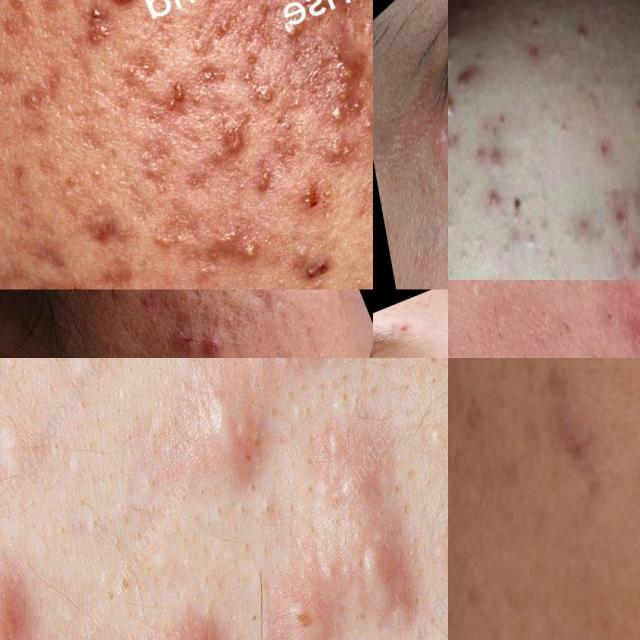acne_scars: (244, 289, 282, 324)
comedone: (547, 106, 582, 144), (452, 225, 478, 275), (568, 7, 595, 54), (522, 0, 551, 37), (561, 220, 583, 259), (519, 227, 541, 257), (454, 0, 473, 30), (448, 177, 456, 239), (448, 23, 463, 53), (416, 294, 436, 314), (448, 52, 462, 70), (547, 261, 560, 280)
cystic: (200, 325, 235, 358)
keloid: (354, 513, 441, 640), (108, 570, 252, 640), (0, 555, 31, 640), (160, 68, 198, 122), (221, 110, 261, 158)
papule: (139, 295, 218, 358), (448, 58, 483, 103), (609, 197, 639, 244), (482, 136, 516, 172), (478, 183, 509, 217), (519, 39, 544, 73), (622, 239, 640, 280), (448, 131, 458, 163)
pustule: (229, 228, 277, 274), (26, 270, 72, 290), (448, 87, 461, 124)
sebo-crystan-conglo: (283, 35, 373, 150), (70, 0, 127, 59), (76, 208, 125, 255)
syringoma: (419, 123, 448, 205)
